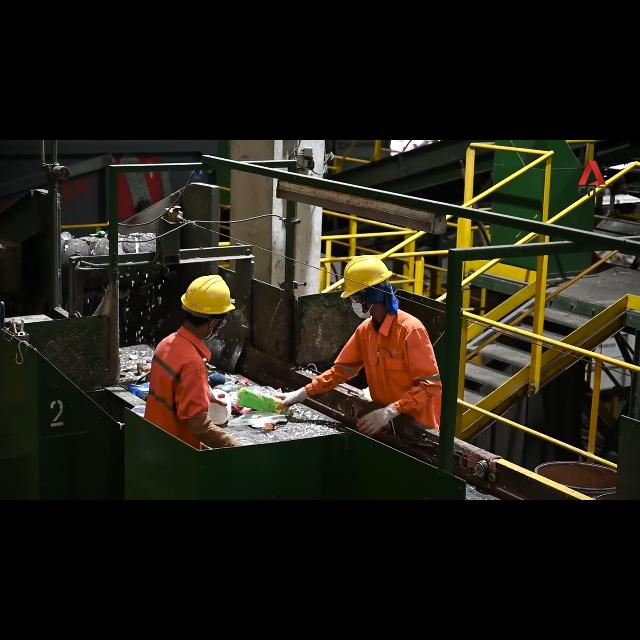trash: (235, 386, 295, 419), (213, 380, 263, 396)
